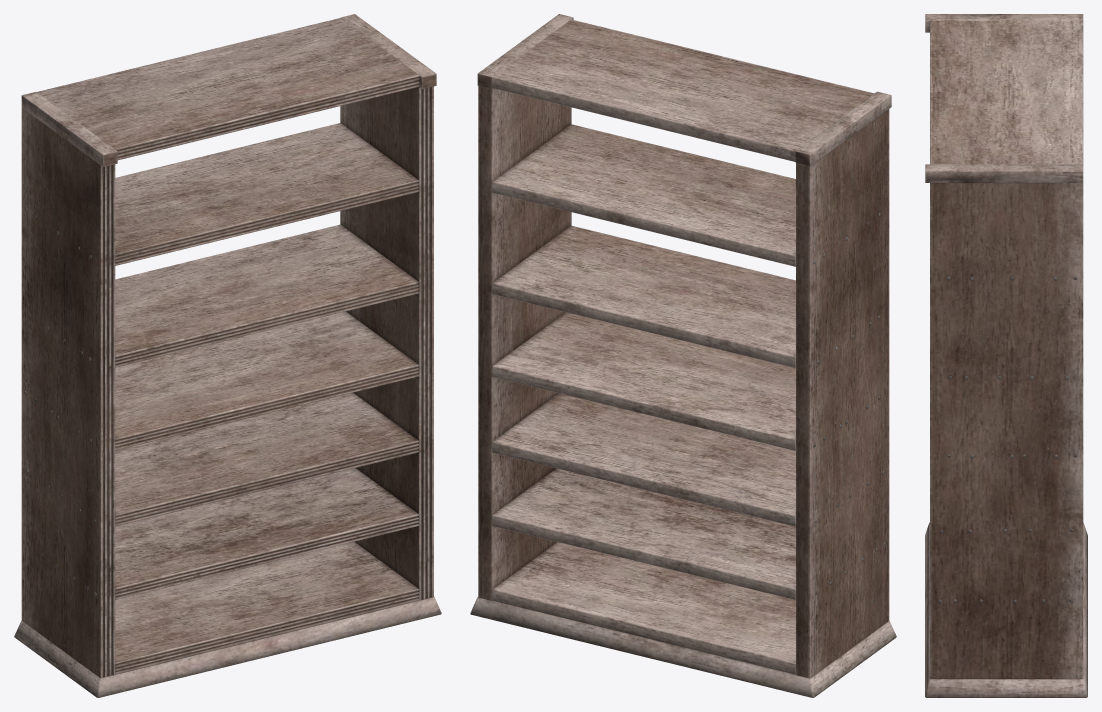
File: wooden_bookshelf_worn.glb
The picture shows the model from 3 angles, left to right: view 1: azimuth 30°, elevation 25°; view 2: azimuth 150°, elevation 25°; view 3: azimuth 270°, elevation 25°; orthographic projection. The views are drawn at different scales.
Visible parts, largest first — view 1: wooden_bookshelf_worn; view 2: wooden_bookshelf_worn; view 3: wooden_bookshelf_worn.
Part boxes in pixels (left/top/right/bottom): wooden_bookshelf_worn: left=14, top=14, right=441, bottom=697; wooden_bookshelf_worn: left=470, top=14, right=896, bottom=697; wooden_bookshelf_worn: left=925, top=14, right=1087, bottom=697.
Bounding box in the file's own units: 1.37 × 2.06 × 0.5814.
1 material, 1 textured.
